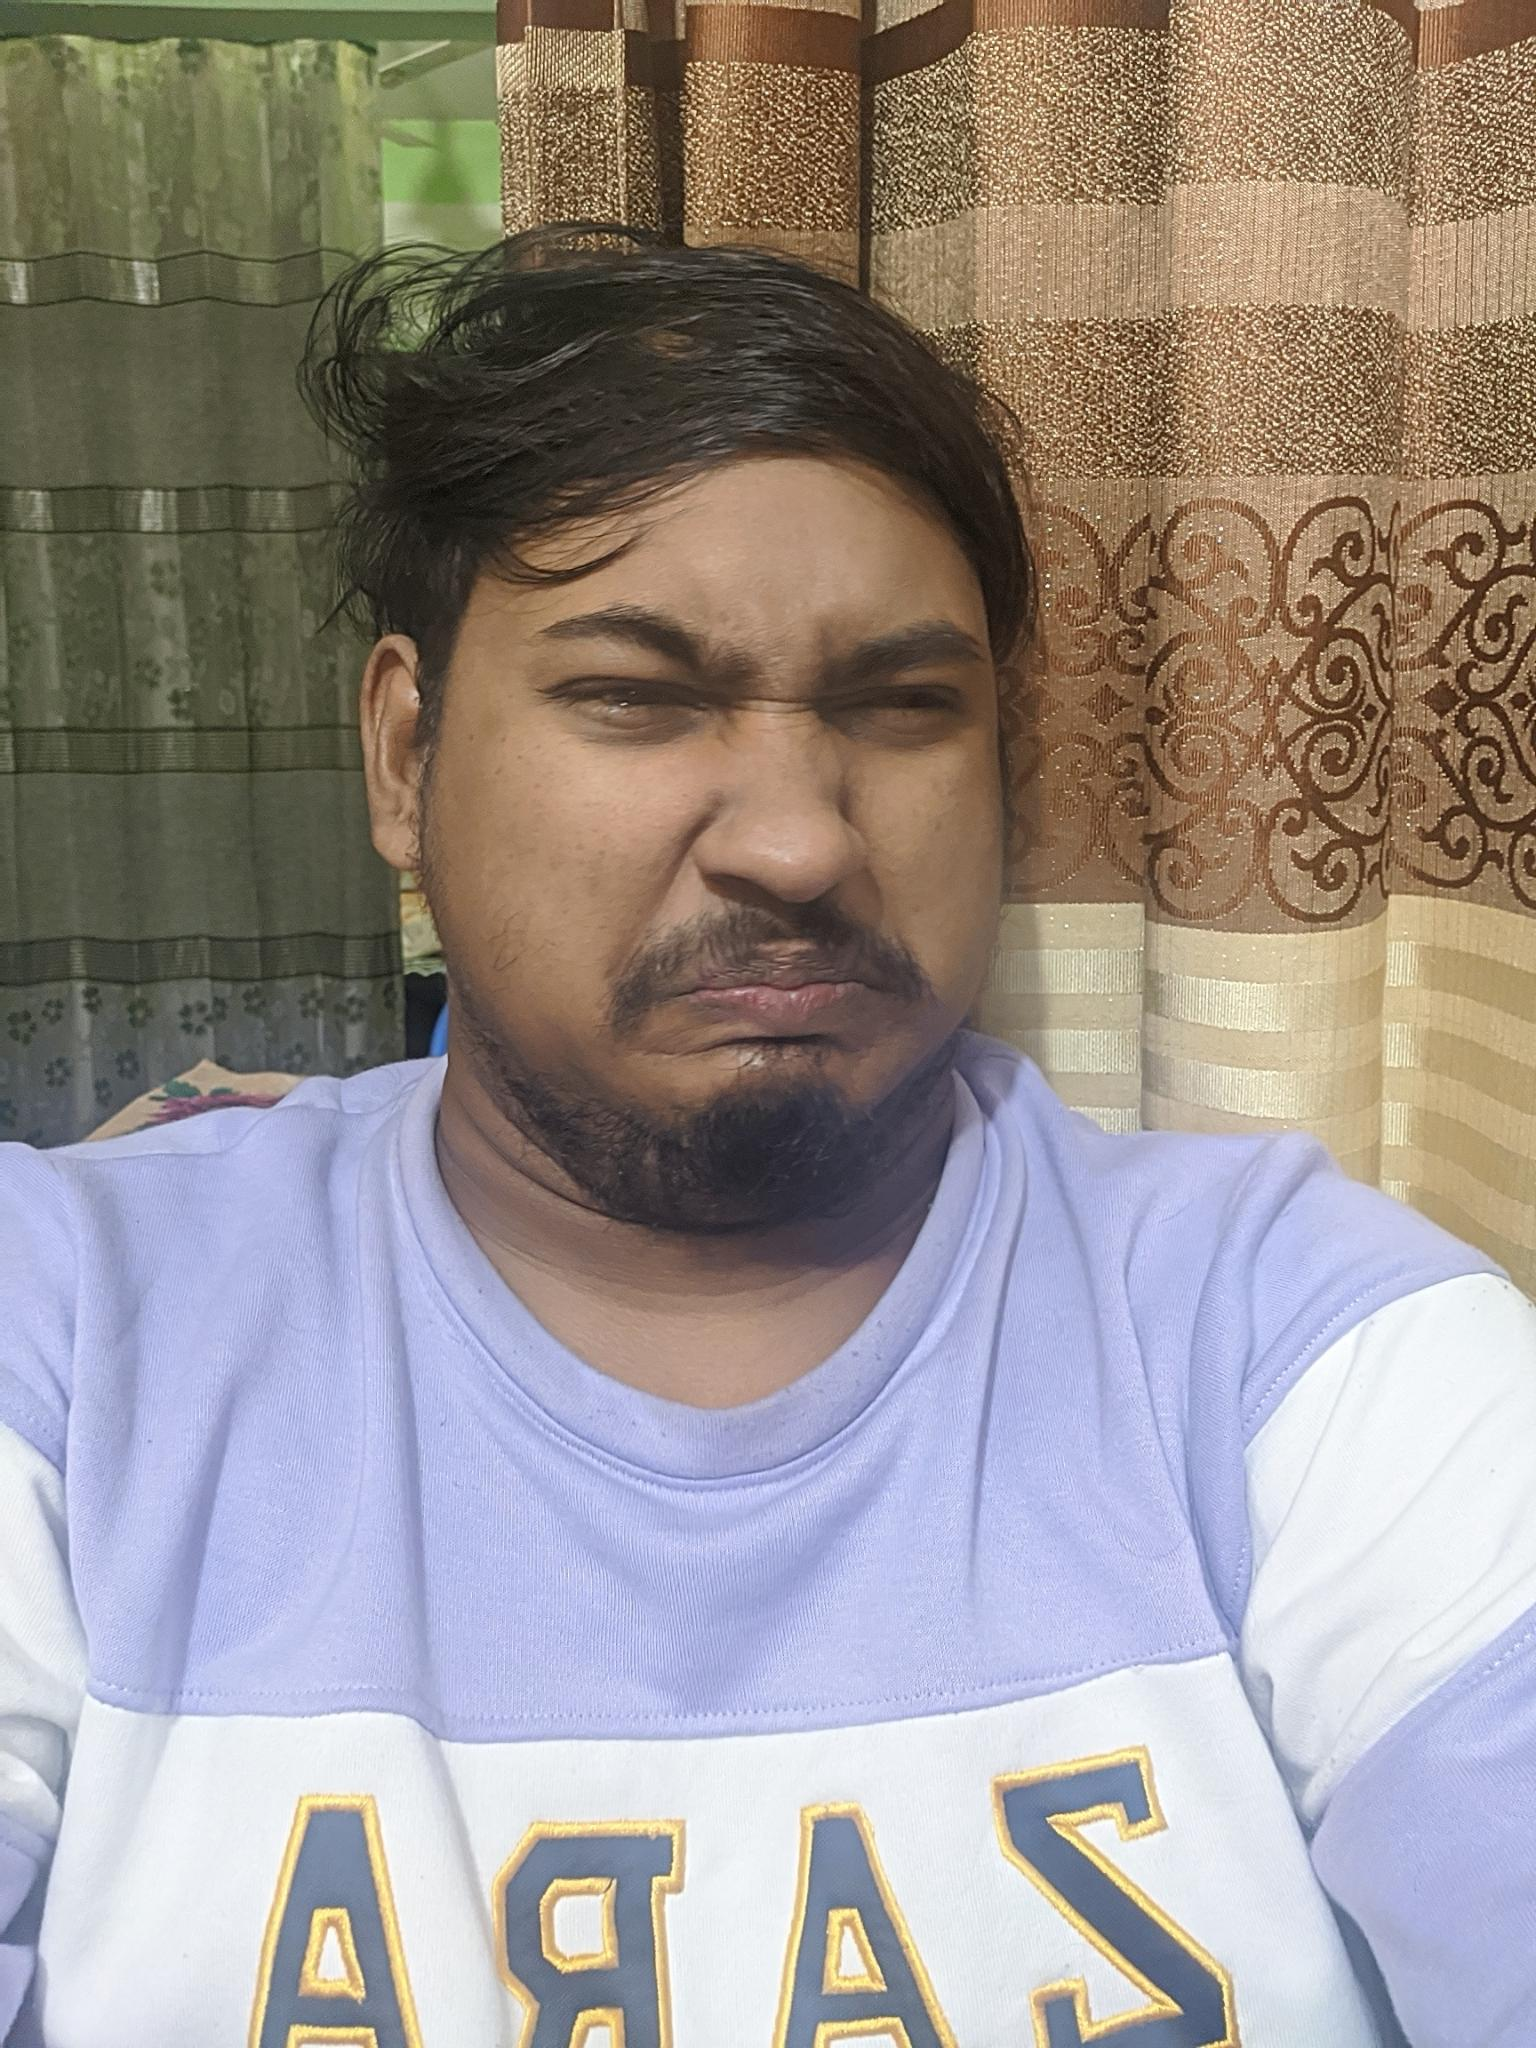Disgust: (473, 531, 1034, 1158)
